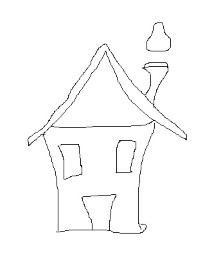door: (79, 189, 123, 236)
open_window: (54, 139, 87, 183), (109, 137, 141, 177)
roof: (26, 41, 188, 145)
smoking_chimney: (135, 15, 177, 105)
wall: (43, 122, 154, 233)
